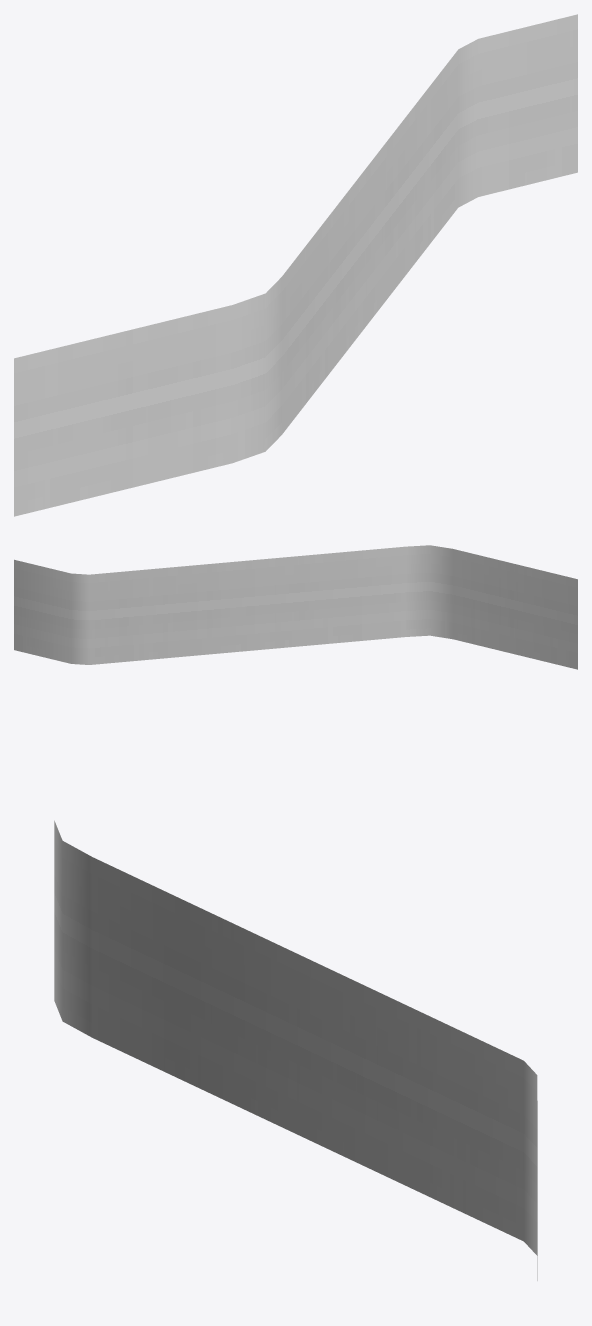
Rendered from pref_sm_city_holoall06_snow_lv1.fbx.
3 views of the same model, one above another, from view 1: azimuth 30°, elevation 25°; view 2: azimuth 150°, elevation 25°; view 3: azimuth 270°, elevation 25° (orthographic). The views are drawn at different scales.
Parts seen in each view (by area): view 1: pref_sm_city_holoall06_snow_lv1; view 2: pref_sm_city_holoall06_snow_lv1; view 3: pref_sm_city_holoall06_snow_lv1.
Boxes of the visible parts, x1,y1,x2,y2 form: pref_sm_city_holoall06_snow_lv1: (14, 14, 577, 516); pref_sm_city_holoall06_snow_lv1: (14, 545, 577, 669); pref_sm_city_holoall06_snow_lv1: (54, 820, 537, 1280).
Bounding box in the file's own units: 24.98 × 4.87 × 11.8.
